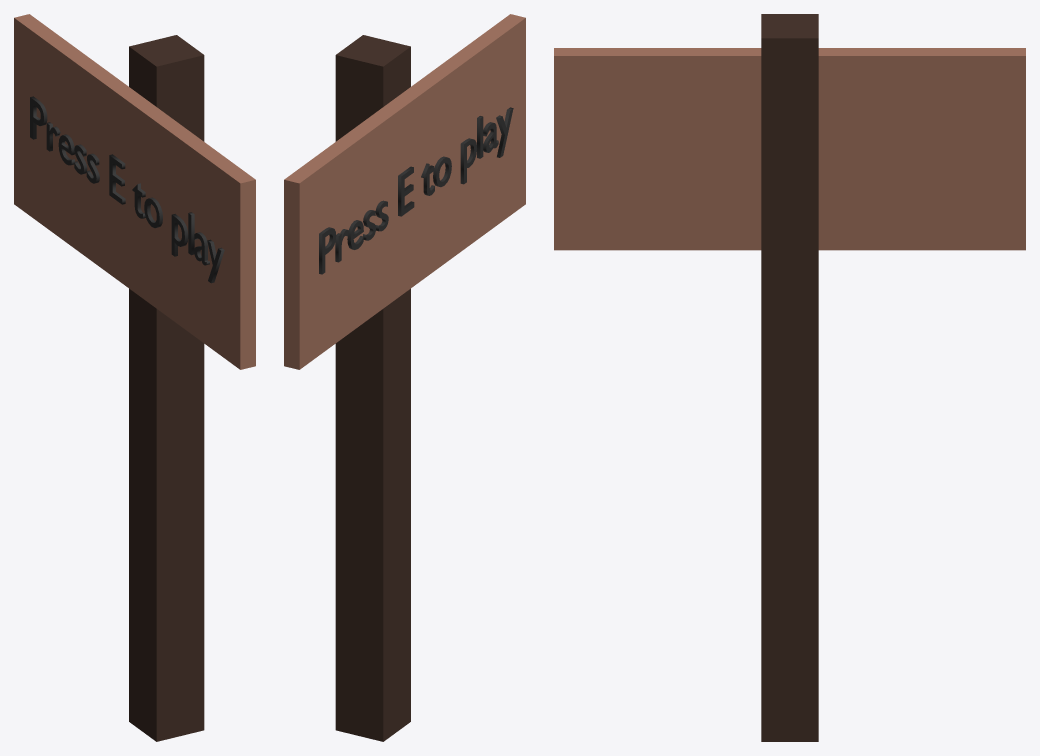
Rendered from sign.glb.
3 views of the same model, side by side, from view 1: azimuth 30°, elevation 25°; view 2: azimuth 150°, elevation 25°; view 3: azimuth 270°, elevation 25° (orthographic). The views are drawn at different scales.
Parts seen in each view (by area): view 1: Sign; view 2: Sign; view 3: Sign.
Part boxes in pixels (bbox=[...]): Sign: bbox=[14, 14, 255, 741]; Sign: bbox=[284, 14, 525, 741]; Sign: bbox=[554, 14, 1025, 741].
Size of what is drawn, in the model's own units: 0.2113 by 2.05 by 1.24.
2 materials, 1 textured.
